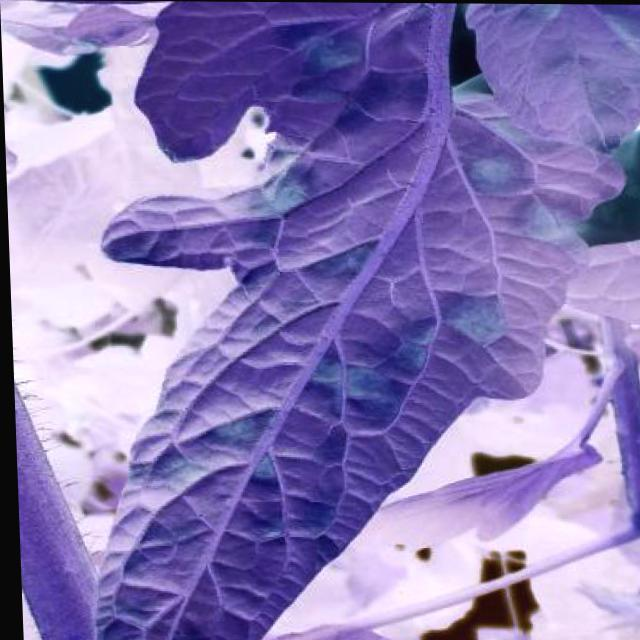Tomato mold leaf: (60, 1, 639, 639)
